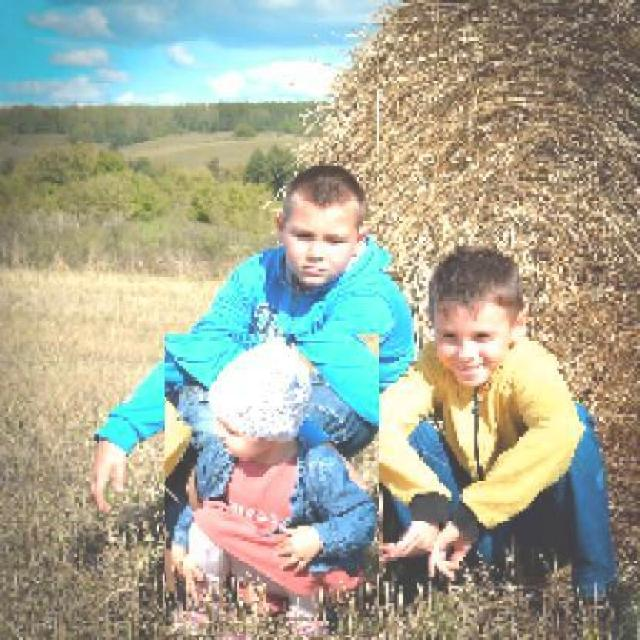child: (349, 244, 625, 619), (163, 334, 380, 637)
